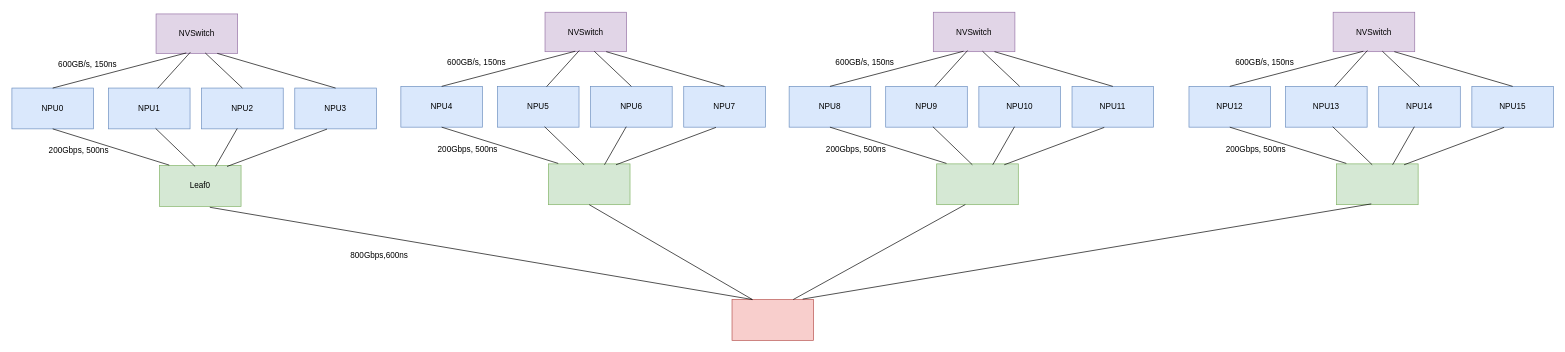
Some shapes in this 1565 by 352 pixel diagram are drawn without their labels. Each missing label, with the centre of its shape:
Leaf1: [589,184]
Leaf2: [977,184]
Leaf3: [1377,184]
Spine Switch: [772,319]
